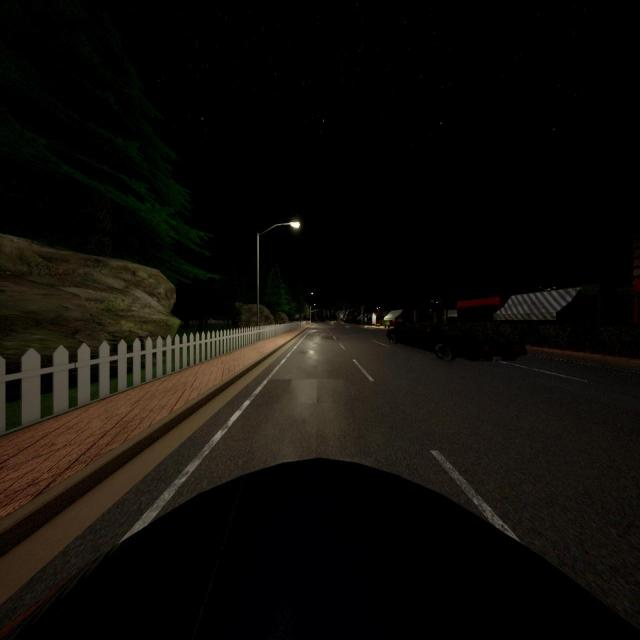Vehicle: (0, 455, 640, 640), (385, 318, 534, 364)
